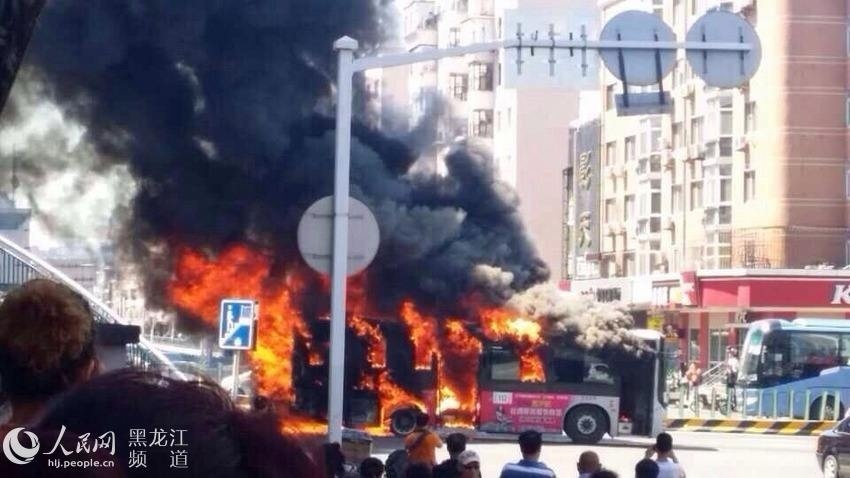fire: (171, 244, 572, 442)
